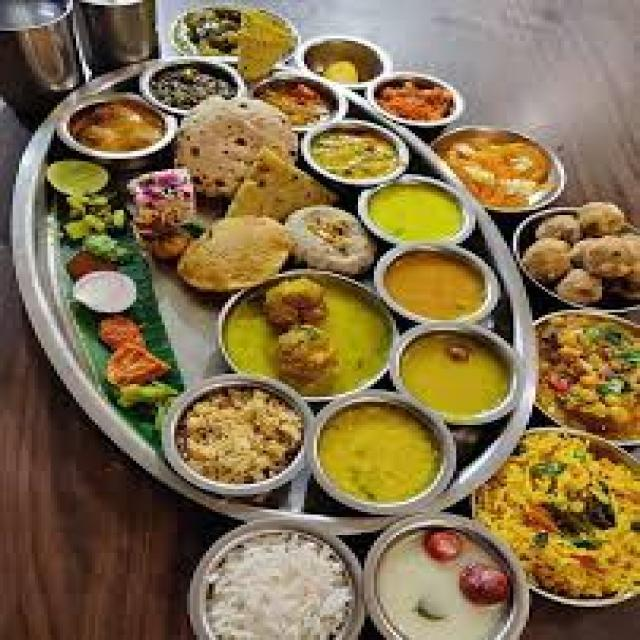curd: (62, 265, 142, 316)
raita: (61, 265, 143, 317)
rice: (199, 536, 358, 638), (171, 387, 306, 487)
roti: (171, 99, 313, 219)
sweet: (366, 529, 513, 637), (435, 126, 563, 211), (157, 2, 298, 79), (379, 245, 500, 319), (354, 176, 472, 248), (61, 93, 174, 160), (303, 125, 406, 188), (255, 77, 342, 129)
veg-fry: (493, 435, 632, 598), (158, 2, 294, 76), (58, 96, 176, 160), (363, 73, 455, 130)
